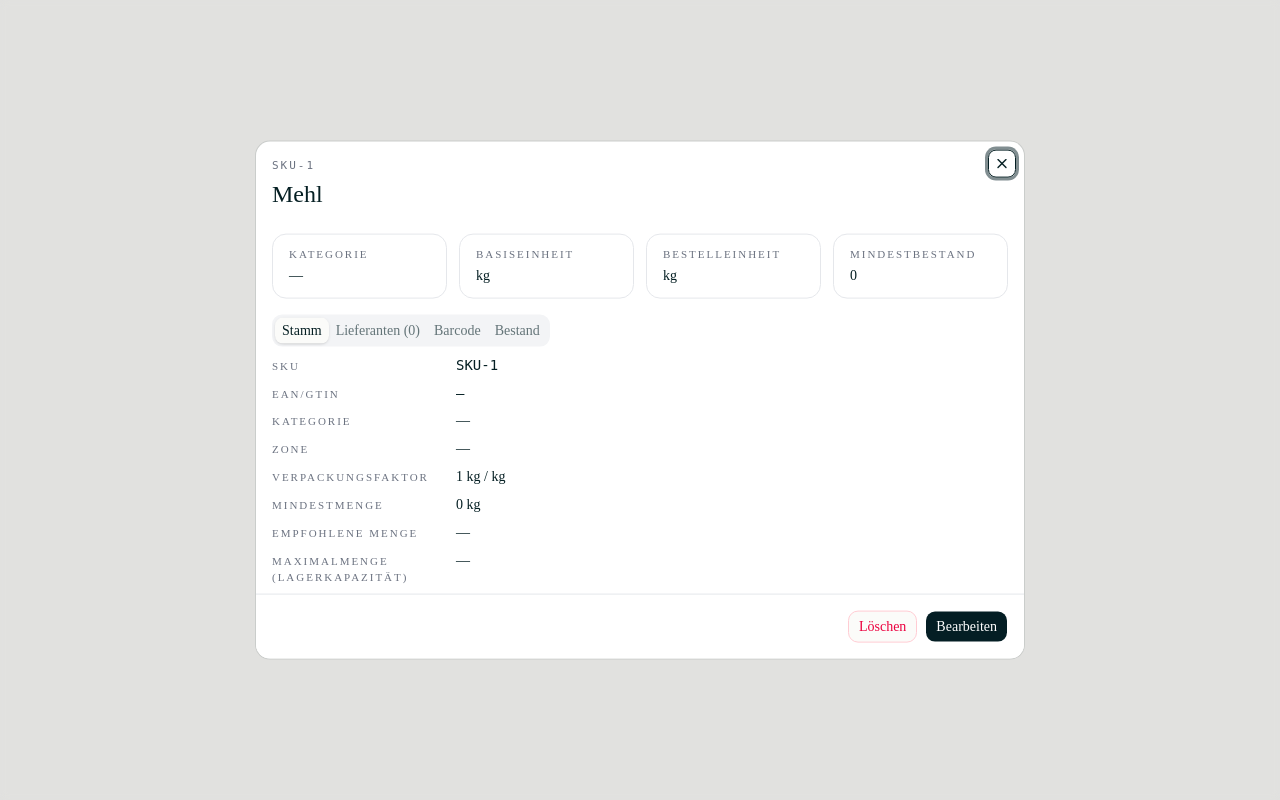
Artikel löschen (article-detail-modal) › löscht nicht ohne Bestätigung
This screenshot has width=1280, height=800.
Click the button "Löschen" at (883, 626), box [848,610,917,642]
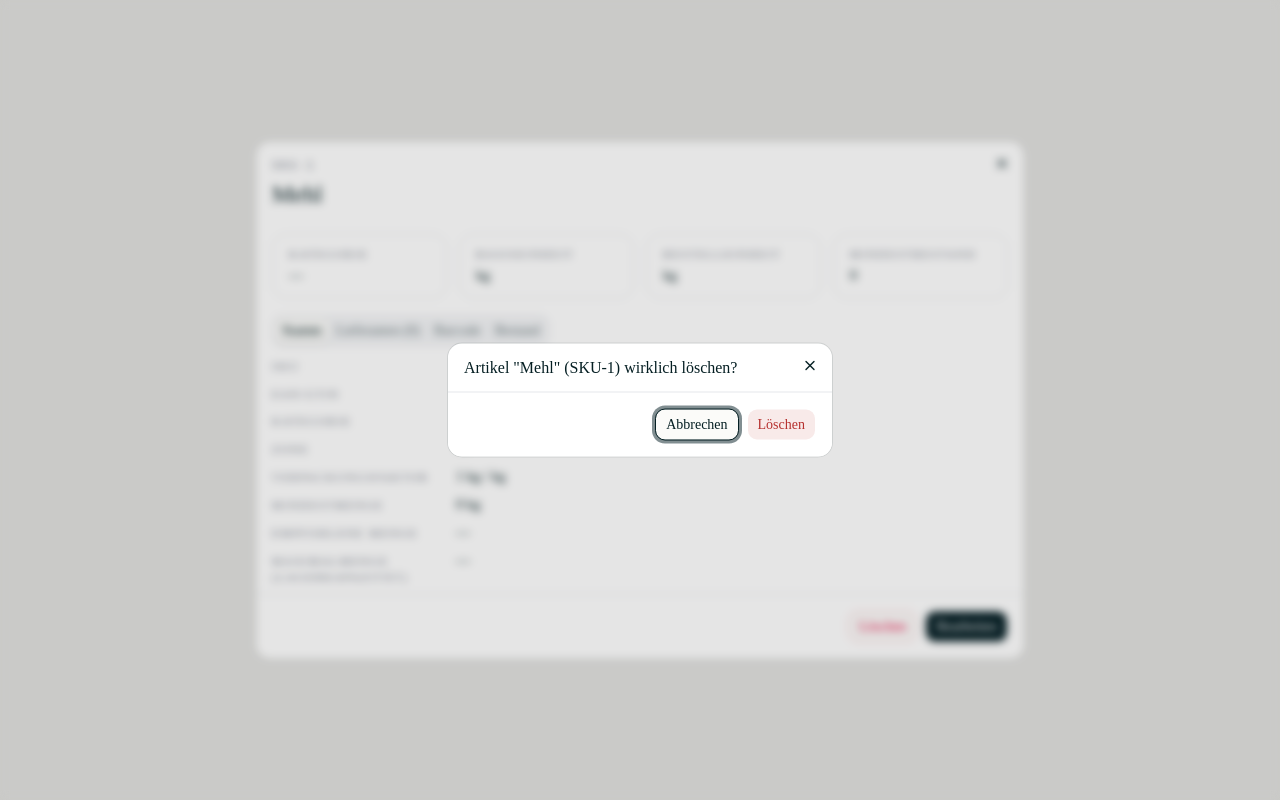
Click the button "Abbrechen" at (697, 424), box [655,408,738,440]
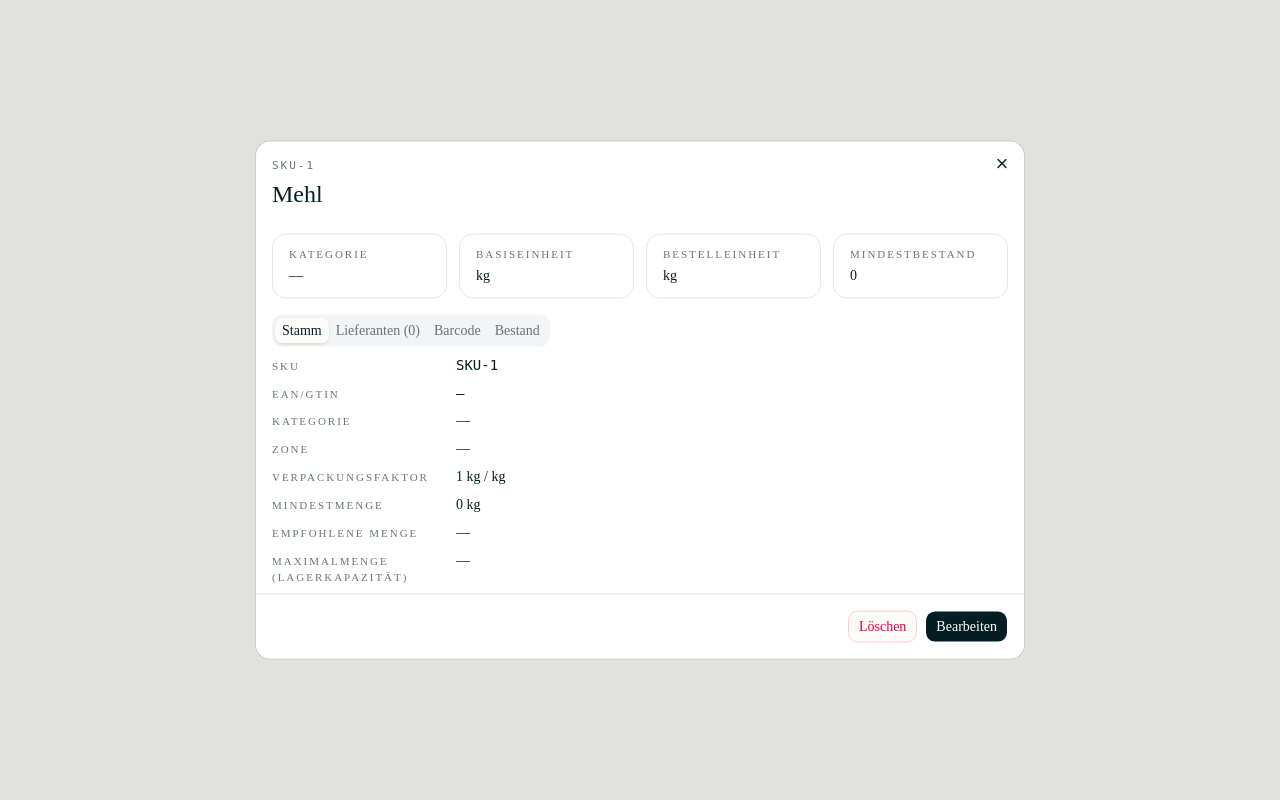
Result: the dialog "Artikel \"Mehl\" (SKU-1) wirklich löschen? Abbrechen Löschen" is gone
